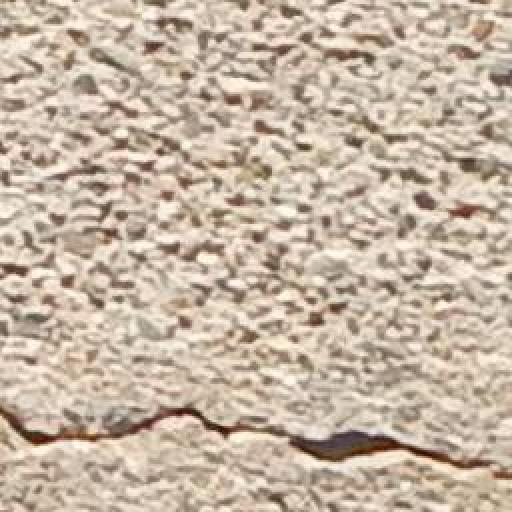spalling: (8, 388, 508, 510)
